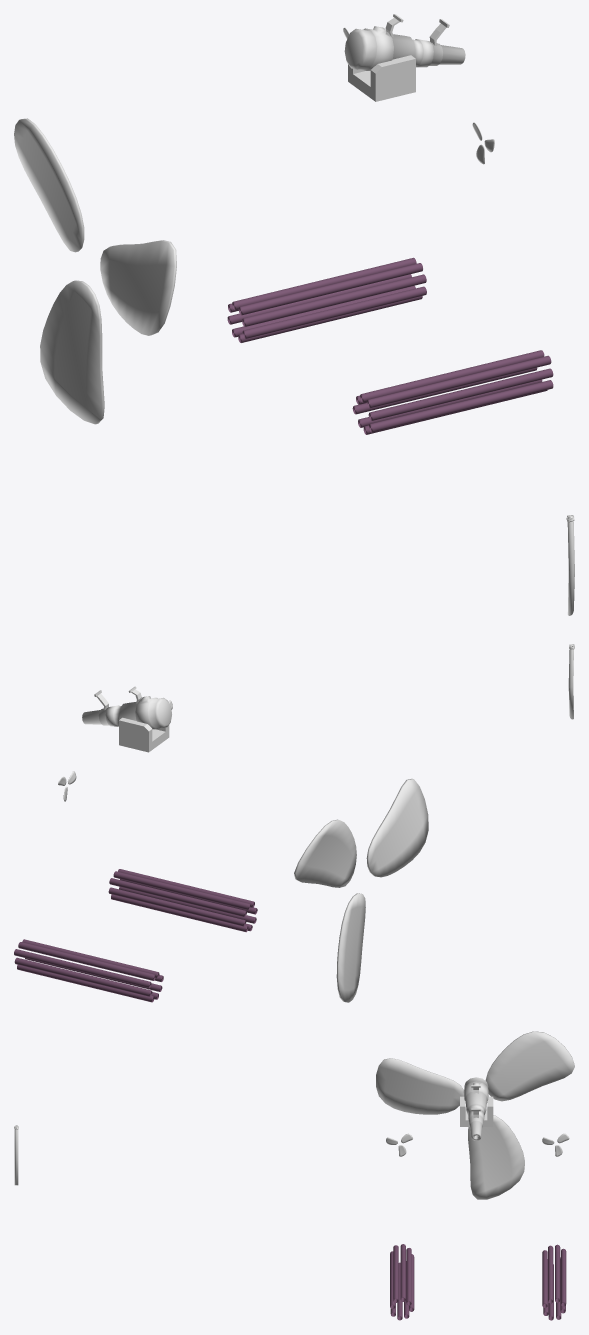
The model's file is animaties.fbx.
3 renders of one model, top to bottom at view 1: azimuth 30°, elevation 25°; view 2: azimuth 150°, elevation 25°; view 3: azimuth 270°, elevation 25°, orthographic. The views are drawn at different scales.
Visible parts, largest first — view 1: Plane.002, Cylinder.001, Cylinder.007, Cylinder.005, Cube; view 2: Plane.002, Cylinder.007, Cylinder.001, Cylinder.005, Cube; view 3: Plane.002, Cylinder.007, Cylinder.001, Cylinder.005, Cube.
Part boxes in pixels (<box>): Plane.002: <box>14,118,176,424</box>; Cylinder.001: <box>227,257,426,342</box>; Cylinder.007: <box>352,350,553,434</box>; Cylinder.005: <box>344,26,465,70</box>; Cube: <box>348,55,415,101</box>; Plane.002: <box>294,779,428,1002</box>; Cylinder.007: <box>108,869,257,932</box>; Cylinder.001: <box>14,939,163,1002</box>; Cylinder.005: <box>82,696,171,729</box>; Cube: <box>119,717,169,752</box>; Plane.002: <box>376,1031,574,1199</box>; Cylinder.007: <box>390,1244,414,1320</box>; Cylinder.001: <box>542,1244,566,1320</box>; Cylinder.005: <box>463,1077,488,1140</box>; Cube: <box>460,1096,493,1126</box>.
Bounding box in the file's own units: 1295 × 1072 × 2592.
